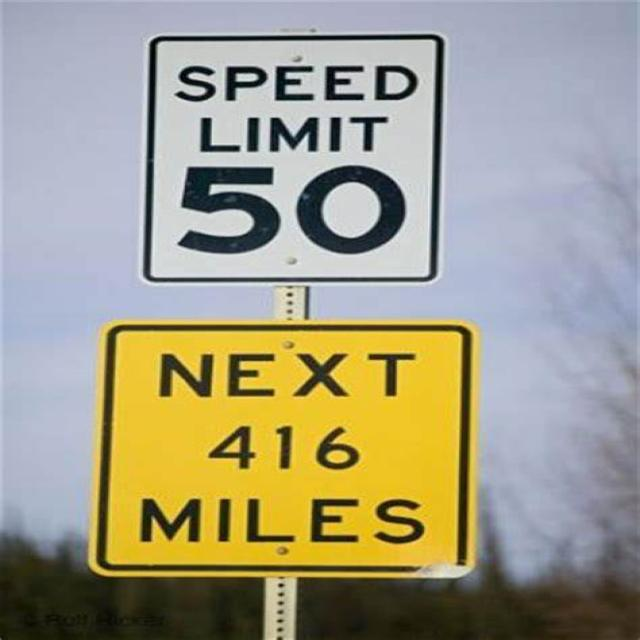speedLimit50: (145, 39, 436, 287)
